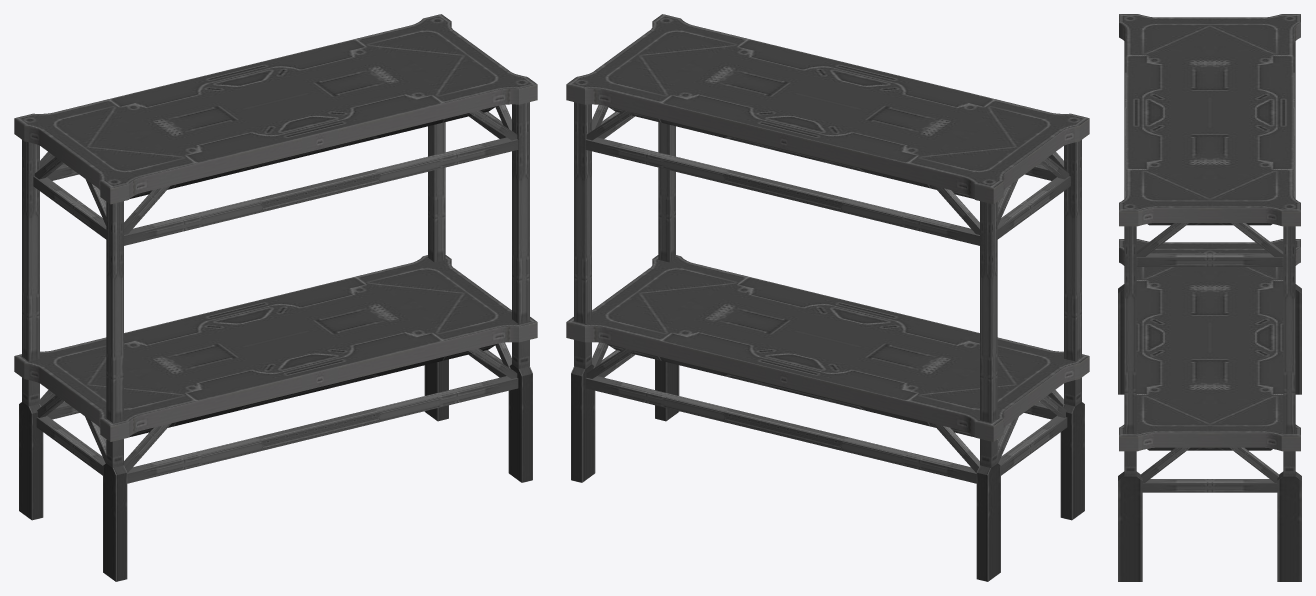
3 views of the same model, side by side, from view 1: azimuth 30°, elevation 25°; view 2: azimuth 150°, elevation 25°; view 3: azimuth 270°, elevation 25° (orthographic). The views are drawn at different scales.
Visible parts, largest first — view 1: Prop_Shelves_ThinShort; view 2: Prop_Shelves_ThinShort; view 3: Prop_Shelves_ThinShort.
Part boxes in pixels (x1,y1,x2,y2): Prop_Shelves_ThinShort: (14,14,537,581); Prop_Shelves_ThinShort: (566,14,1089,581); Prop_Shelves_ThinShort: (1118,14,1301,581).
Bounding box in the file's own units: 0.9613 × 0.8478 × 0.3787.
Materials: 1 (1 with a texture image).
